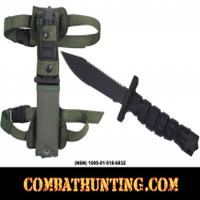knife: (59, 48, 200, 152)
